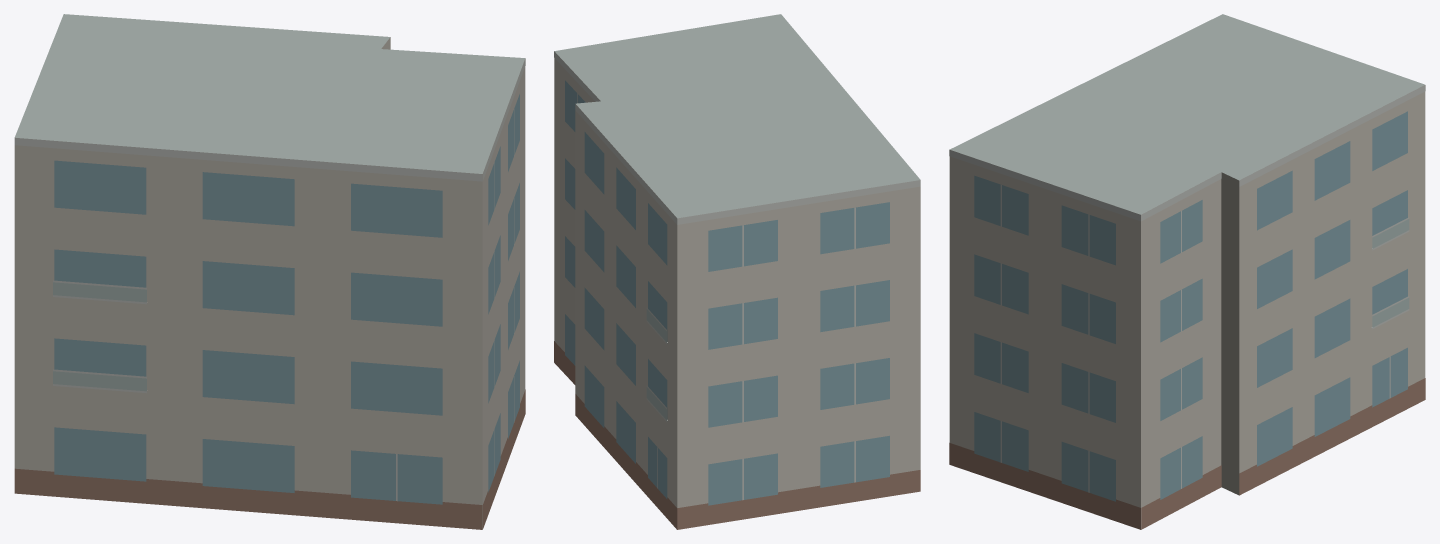
Rendered from survey-upis-32987268.glb.
3 renders of one model, left to right at view 1: azimuth 30°, elevation 25°; view 2: azimuth 150°, elevation 25°; view 3: azimuth 270°, elevation 25°, orthographic. The views are drawn at different scales.
Visible parts, largest first — view 1: survey-upis-32987268.tmp; view 2: survey-upis-32987268.tmp; view 3: survey-upis-32987268.tmp.
Part boxes in pixels (x1=…): survey-upis-32987268.tmp: x1=14, y1=14, x2=525, y2=529; survey-upis-32987268.tmp: x1=554, y1=14, x2=920, y2=529; survey-upis-32987268.tmp: x1=949, y1=14, x2=1425, y2=529.
Size of the model in its own units: 15.87 by 11.6 by 15.89.
